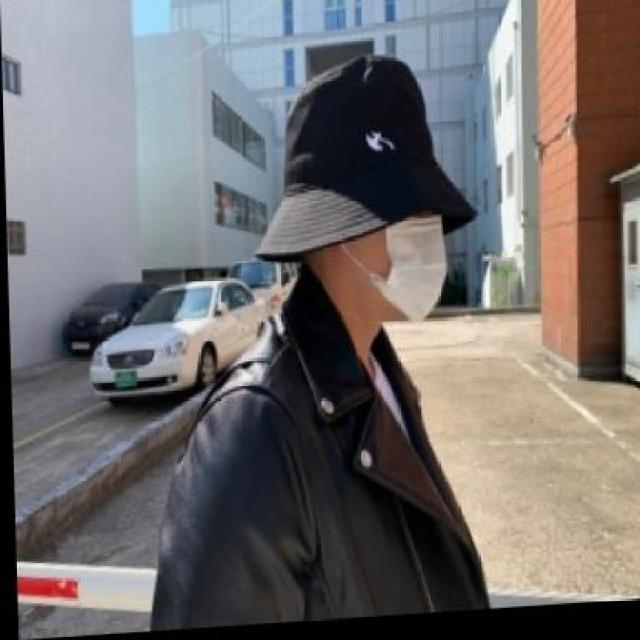hat: (240, 49, 478, 265)
